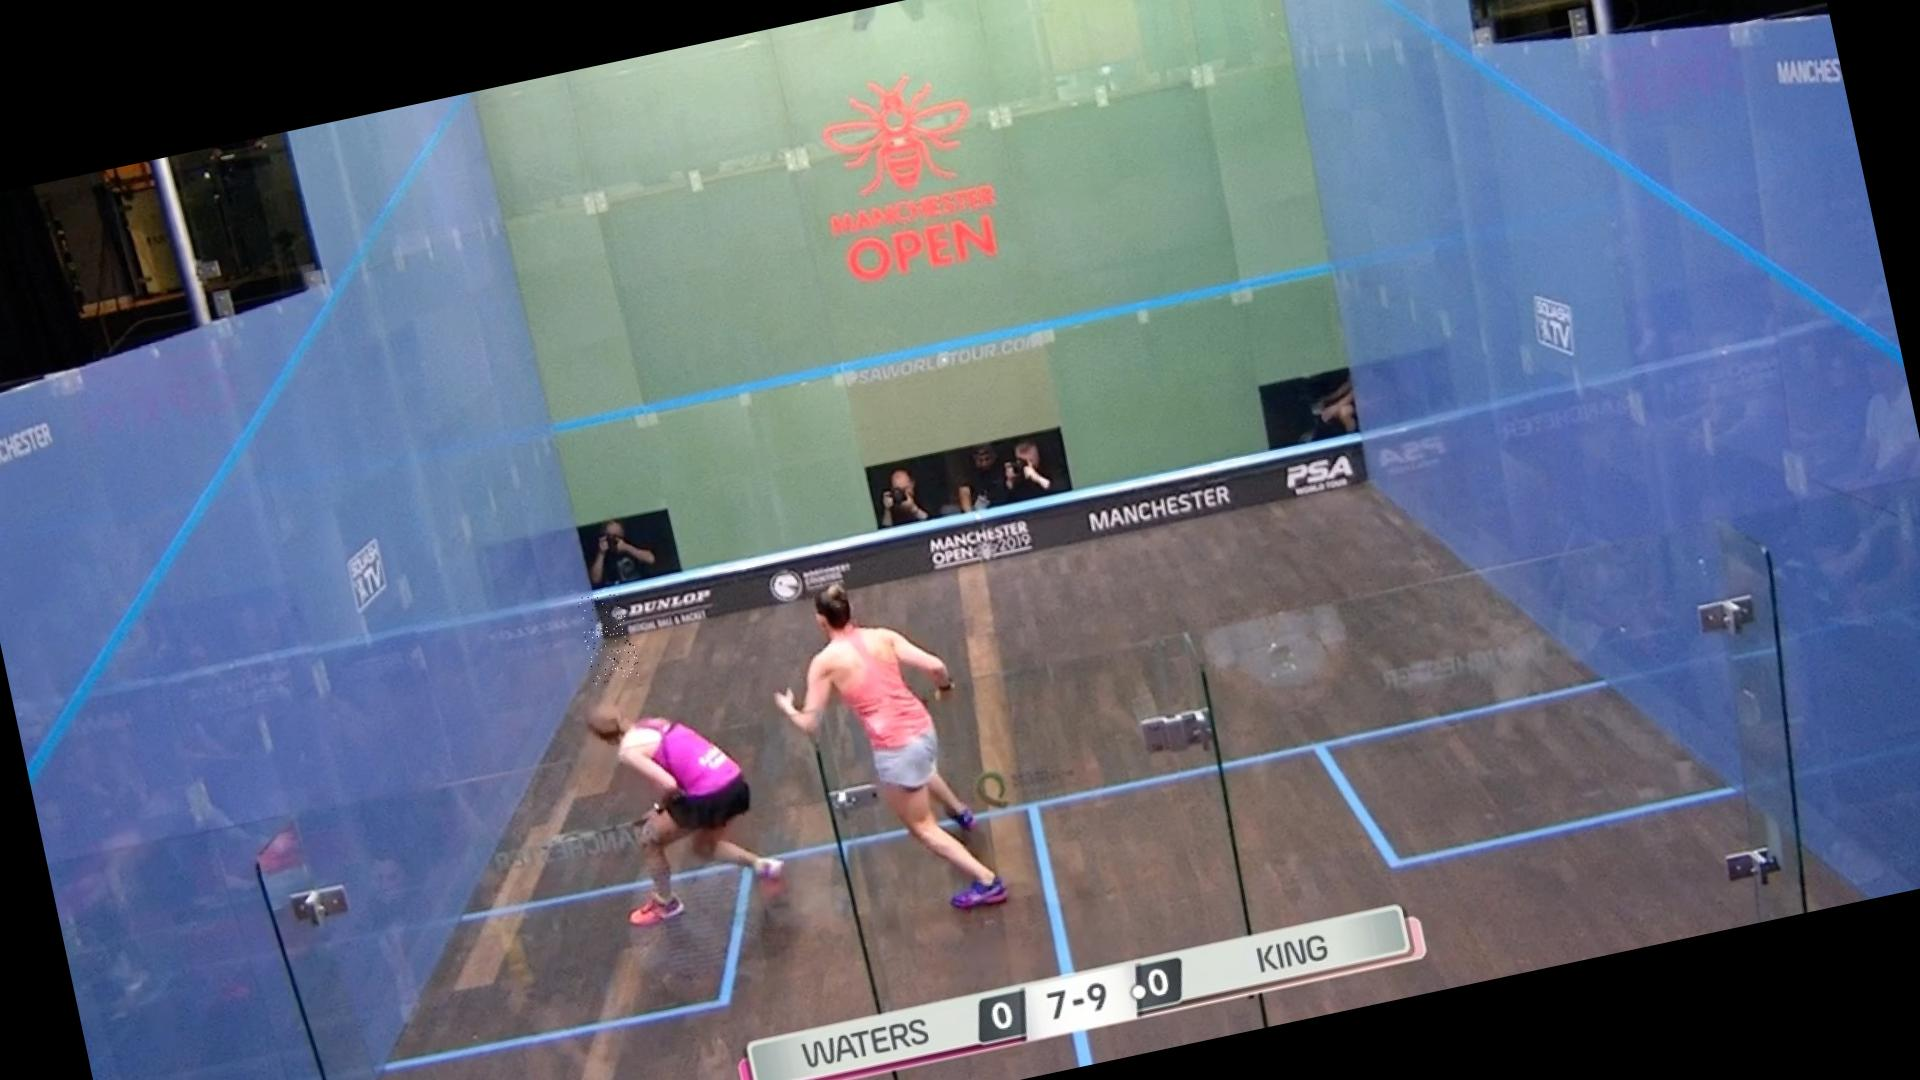Squash-Ball: (575, 585, 641, 684)
